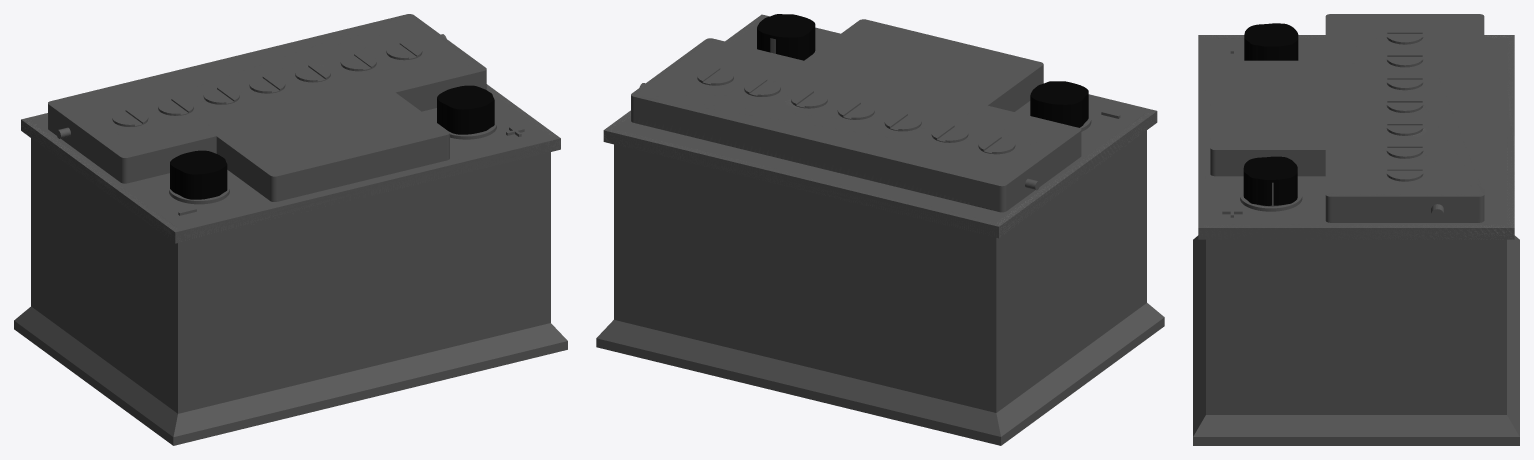
File: acumulador9.glb
The picture shows the model from 3 angles, left to right: view 1: azimuth 30°, elevation 25°; view 2: azimuth 150°, elevation 25°; view 3: azimuth 270°, elevation 25°; orthographic projection. The views are drawn at different scales.
Visible parts, largest first — view 1: node_id52, node_id130, node_id58, node_id136, node_id100, node_id346, node_id106, mesh_id463, mesh_id470, node_id352; view 2: node_id52, node_id130, node_id58, node_id136, node_id100, node_id346, node_id106, mesh_id463, node_id352, mesh_id470; view 3: node_id52, node_id130, node_id58, node_id136, node_id346, node_id100, node_id352, node_id106, mesh_id470, mesh_id463, node_id118, node_id148 (+6 smaller).
Boxes of the visible parts, <box> form: node_id52: <box>14,138,567,445</box>; node_id130: <box>48,14,486,201</box>; node_id58: <box>14,142,567,443</box>; node_id136: <box>48,14,486,201</box>; node_id100: <box>21,84,560,243</box>; node_id346: <box>31,95,550,227</box>; node_id106: <box>21,85,560,241</box>; mesh_id463: <box>170,150,227,199</box>; mesh_id470: <box>437,85,494,134</box>; node_id352: <box>34,95,548,226</box>; node_id52: <box>596,130,1164,445</box>; node_id130: <box>631,19,1081,212</box>; node_id58: <box>596,133,1163,445</box>; node_id136: <box>631,20,1081,212</box>; node_id100: <box>603,14,1157,238</box>; node_id346: <box>614,23,1146,222</box>; node_id106: <box>603,16,1156,237</box>; mesh_id463: <box>1030,81,1088,127</box>; node_id352: <box>619,23,1143,220</box>; mesh_id470: <box>757,14,815,60</box>; node_id52: <box>1193,235,1519,445</box>; node_id130: <box>1210,14,1484,222</box>; node_id58: <box>1193,237,1519,445</box>; node_id136: <box>1210,14,1484,222</box>; node_id346: <box>1206,38,1506,224</box>; node_id100: <box>1198,35,1514,239</box>; node_id352: <box>1206,38,1506,224</box>; node_id106: <box>1198,35,1514,239</box>; mesh_id470: <box>1243,156,1297,205</box>; mesh_id463: <box>1244,23,1298,60</box>; node_id118: <box>1386,164,1423,181</box>; node_id148: <box>1386,72,1423,90</box>.
Bounding box in the file's own units: 0.512 × 0.2974 × 0.3585.
Materials: 66 (66 with a texture image).
